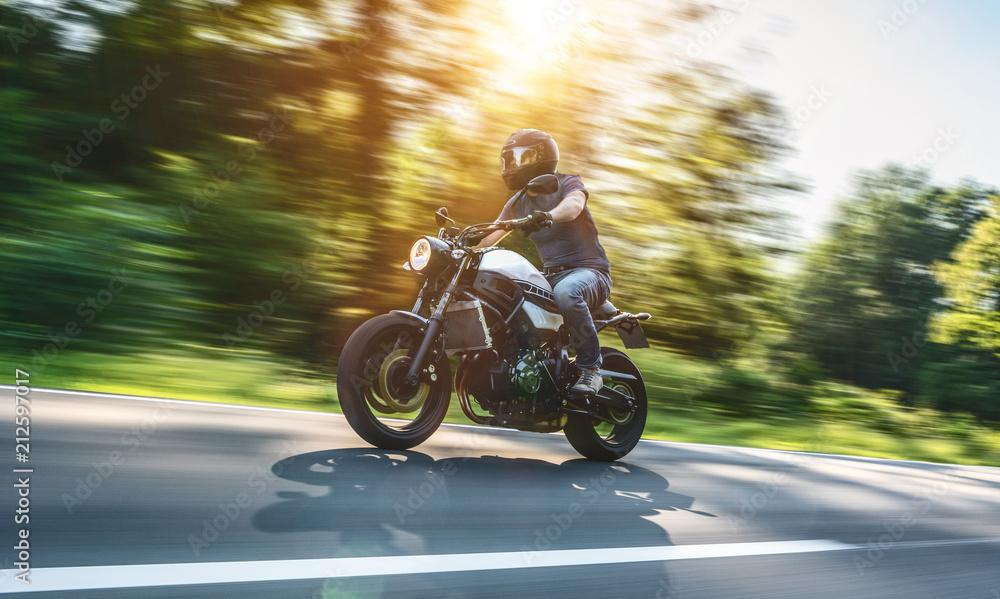helmet: (500, 128, 560, 191)
